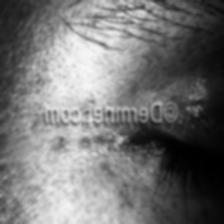Non-Cancerous Skin Condition: (54, 130, 128, 185)
